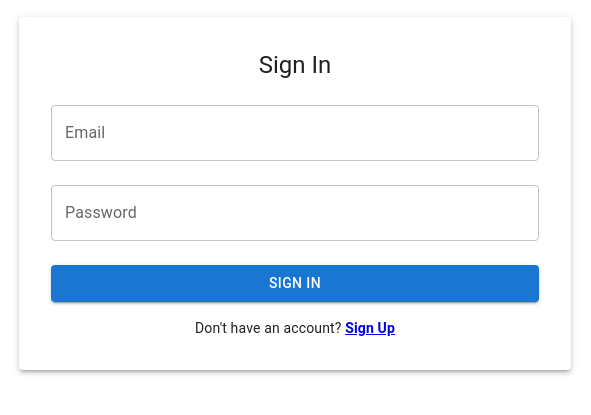
LoginPage › shows validation error when password is empty
Type "valid@test.com" into the field labelled "Email" at (295, 133), box [51,105,539,161]
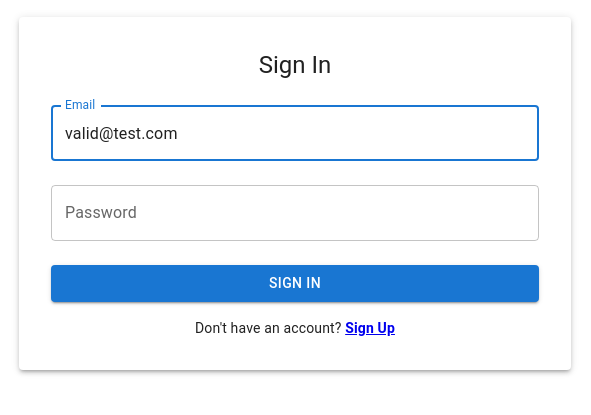
Click the button with test id "submit-button" at (295, 284), box [51,265,539,302]
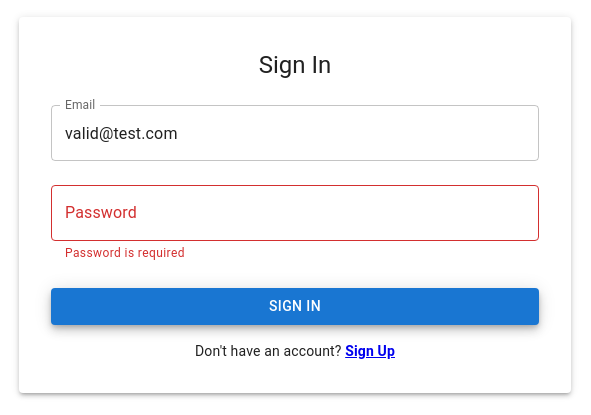
Check: the text "Password is required" is shown, box [65,246,185,260]
